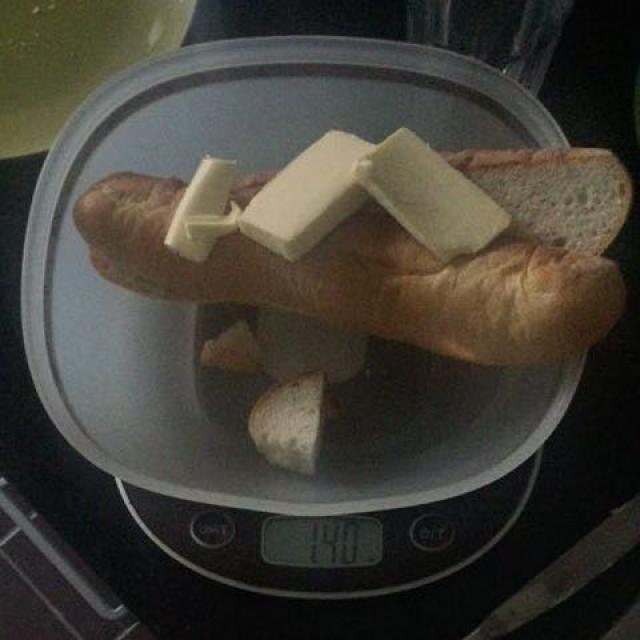bread: (76, 139, 626, 470)
butter: (174, 125, 522, 261)
